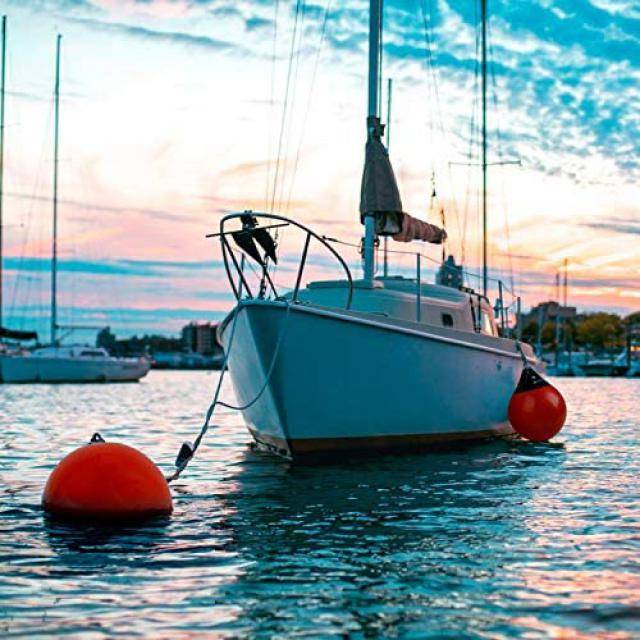ship: (198, 0, 544, 471), (0, 15, 154, 393), (582, 340, 639, 380)
